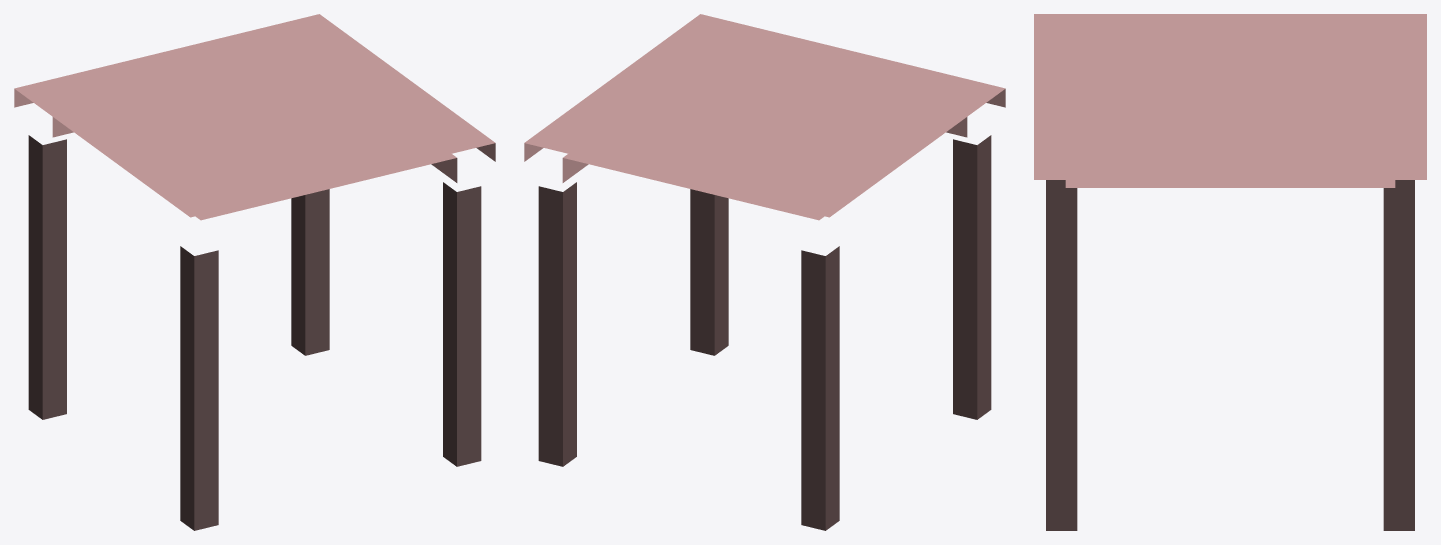
File: Table-pink.glb
3 renders of one model, left to right at view 1: azimuth 30°, elevation 25°; view 2: azimuth 150°, elevation 25°; view 3: azimuth 270°, elevation 25°, orthographic. The views are drawn at different scales.
Visible parts, largest first — view 1: Table; view 2: Table; view 3: Table.
Part boxes in pixels (bbox=[...]): Table: bbox=[14, 14, 495, 530]; Table: bbox=[524, 14, 1005, 530]; Table: bbox=[1034, 14, 1426, 530].
Size of the model in its own units: 1 by 1 by 1.
